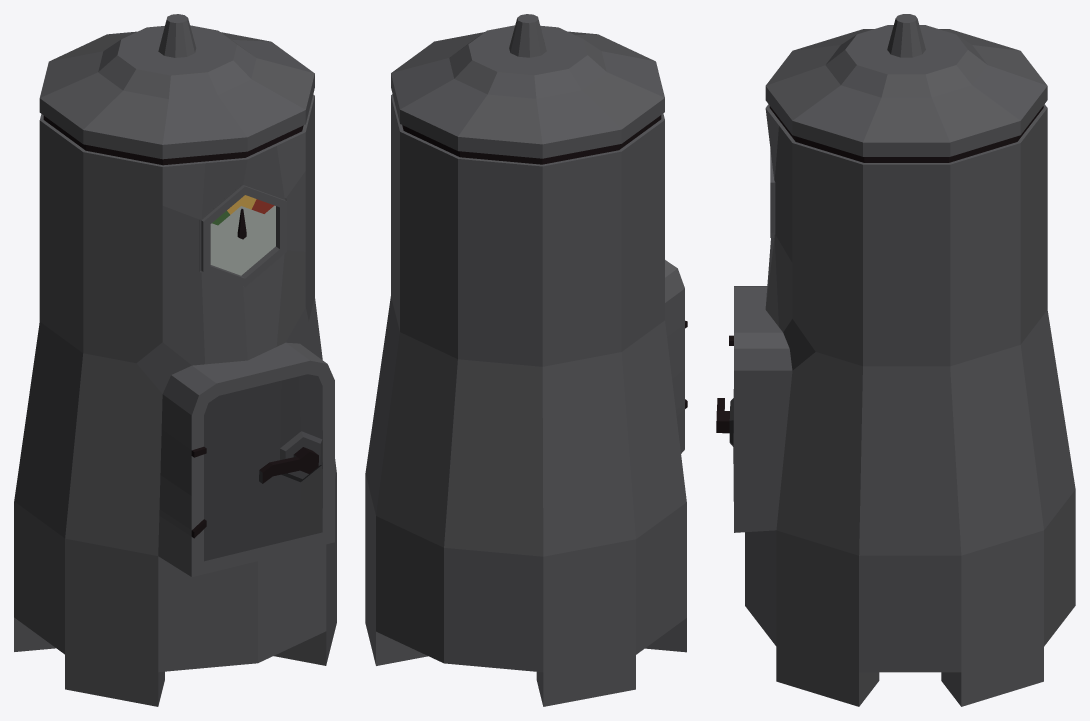
File: LowPolyBoiler.fbx
The picture shows the model from 3 angles, left to right: view 1: azimuth 30°, elevation 25°; view 2: azimuth 150°, elevation 25°; view 3: azimuth 270°, elevation 25°; orthographic projection.
Visible parts, largest first — view 1: Cylinder, Cylinder.001; view 2: Cylinder; view 3: Cylinder, Cylinder.001.
Boxes of the visible parts, x1,y1,x2,y2 form: Cylinder: [14, 14, 336, 706]; Cylinder.001: [204, 374, 322, 561]; Cylinder: [365, 14, 687, 706]; Cylinder: [729, 14, 1075, 706]; Cylinder.001: [716, 389, 733, 501].
Size of the model in its own units: 223 by 487 by 255.
